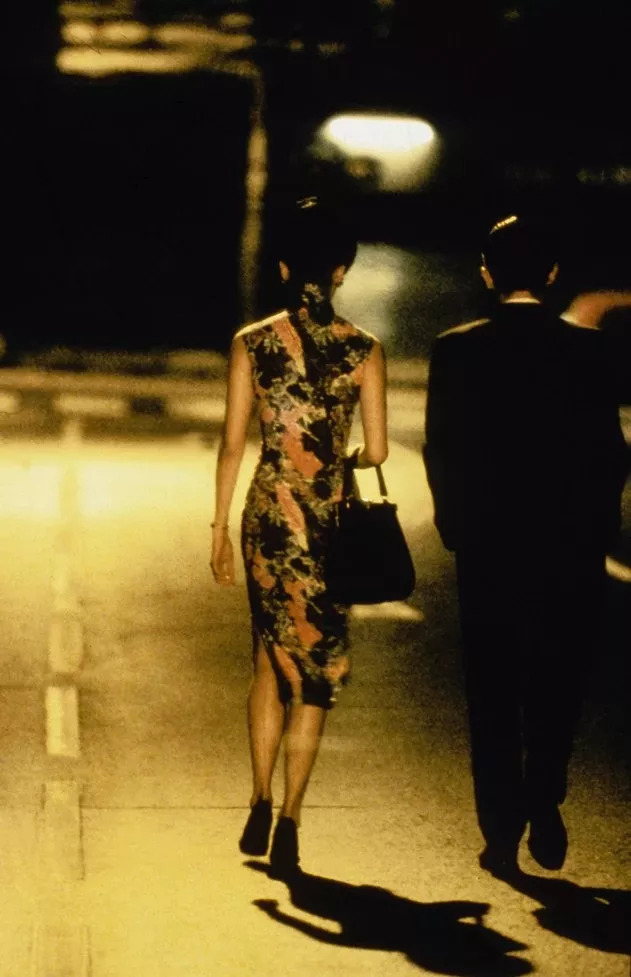other: (195, 173, 401, 885)
